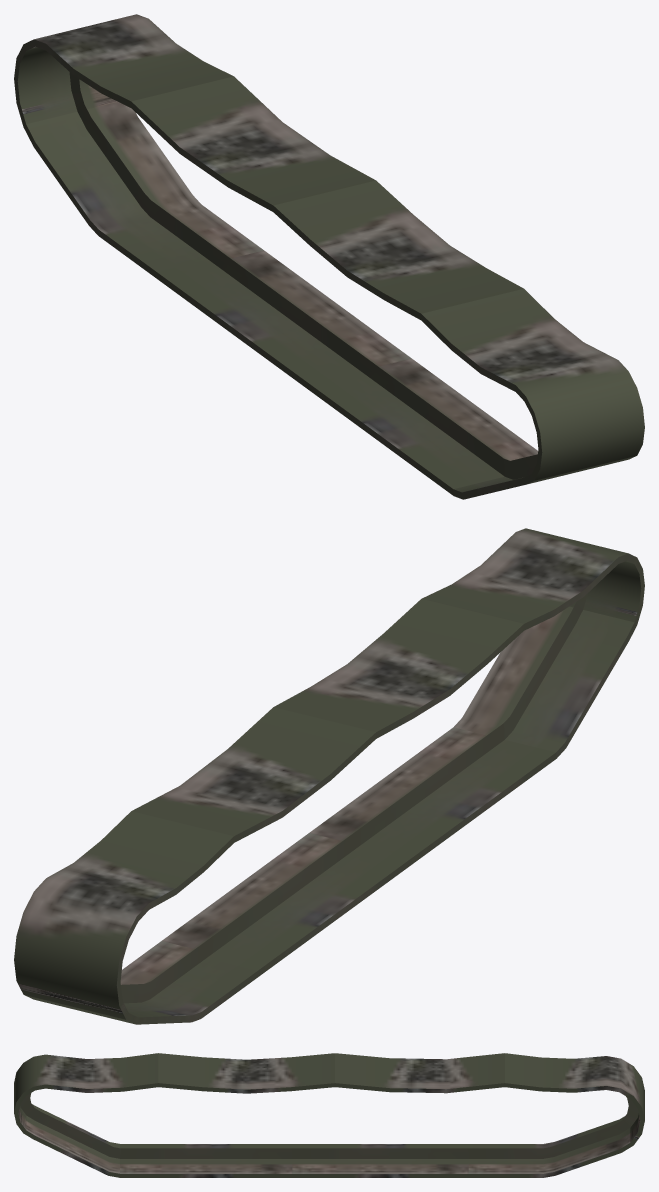
The model's file is is2_hull_m0.obj.
3 renders of one model, top to bottom at view 1: azimuth 30°, elevation 25°; view 2: azimuth 150°, elevation 25°; view 3: azimuth 270°, elevation 25°, orthographic. The views are drawn at different scales.
Parts seen in each view (by area): view 1: is2_hull_m0; view 2: is2_hull_m0; view 3: is2_hull_m0.
Part boxes in pixels (x1=…): is2_hull_m0: x1=14, y1=14, x2=644, y2=499; is2_hull_m0: x1=14, y1=528, x2=644, y2=1024; is2_hull_m0: x1=14, y1=1053, x2=644, y2=1177.
Size of the model in its own units: 0.7051 by 1.04 by 6.28.
1 material, 1 textured.
